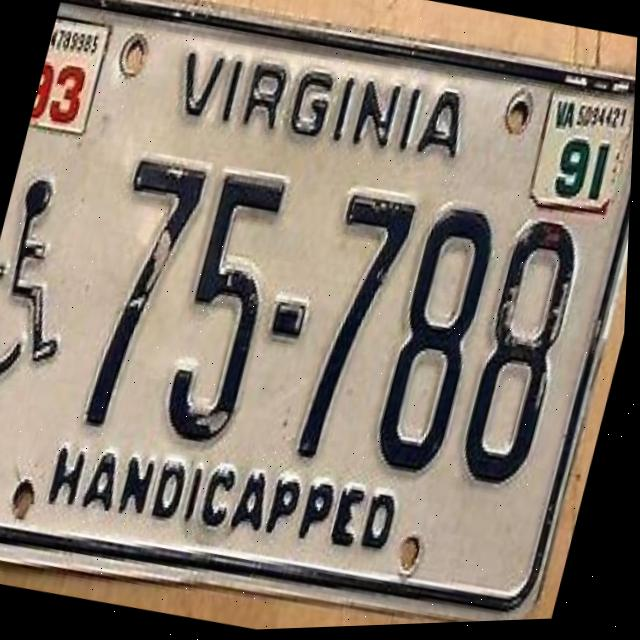symbol_of_access: (0, 165, 102, 394)
